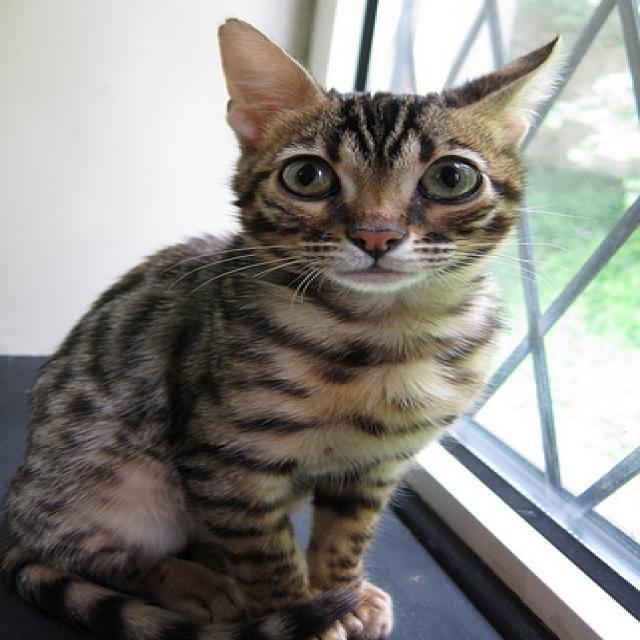Bengal: (0, 13, 566, 640)
